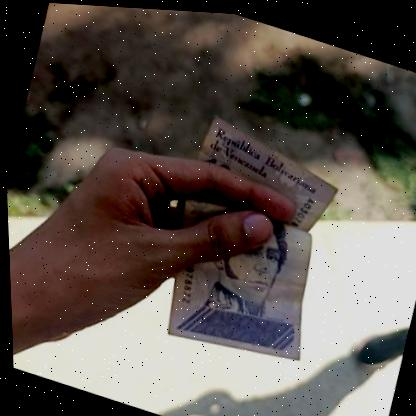ten-front-vef: (141, 104, 352, 374)
